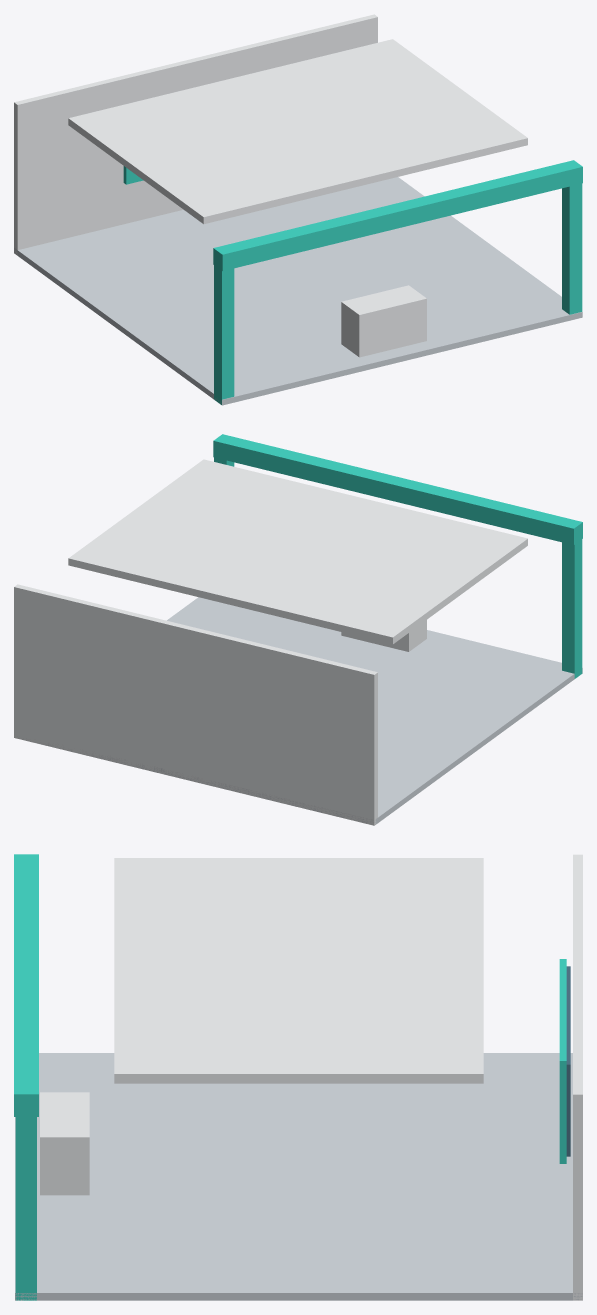
3 views of the same model, one above another, from view 1: azimuth 30°, elevation 25°; view 2: azimuth 150°, elevation 25°; view 3: azimuth 270°, elevation 25° (orthographic). The views are drawn at different scales.
Parts seen in each view (by area): view 1: Exhibition Booth Concept; view 2: Exhibition Booth Concept; view 3: Exhibition Booth Concept.
Part boxes in pixels (<box>): Exhibition Booth Concept: <box>14,14,582,405</box>; Exhibition Booth Concept: <box>14,434,582,825</box>; Exhibition Booth Concept: <box>14,854,582,1300</box>.
Bounding box in the file's own units: 8 × 3.34 × 8.01.
